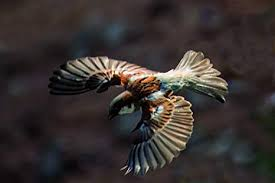hsparrow: (47, 47, 231, 179)
